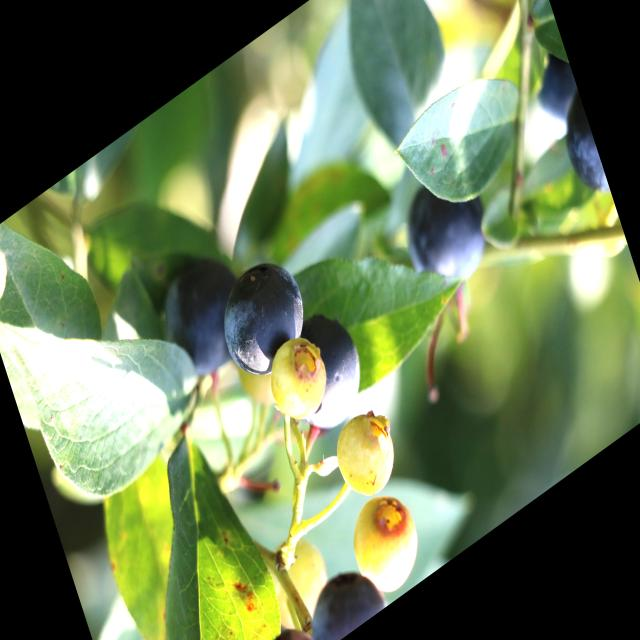blueberry: (387, 143, 508, 317), (148, 234, 260, 404), (206, 236, 318, 397), (271, 288, 378, 452), (291, 539, 392, 640), (520, 41, 590, 157), (550, 89, 612, 213)
blueberry-halfripe: (245, 614, 317, 640)
blueberry-unripe: (341, 477, 429, 611), (327, 395, 406, 511), (258, 321, 336, 438)
